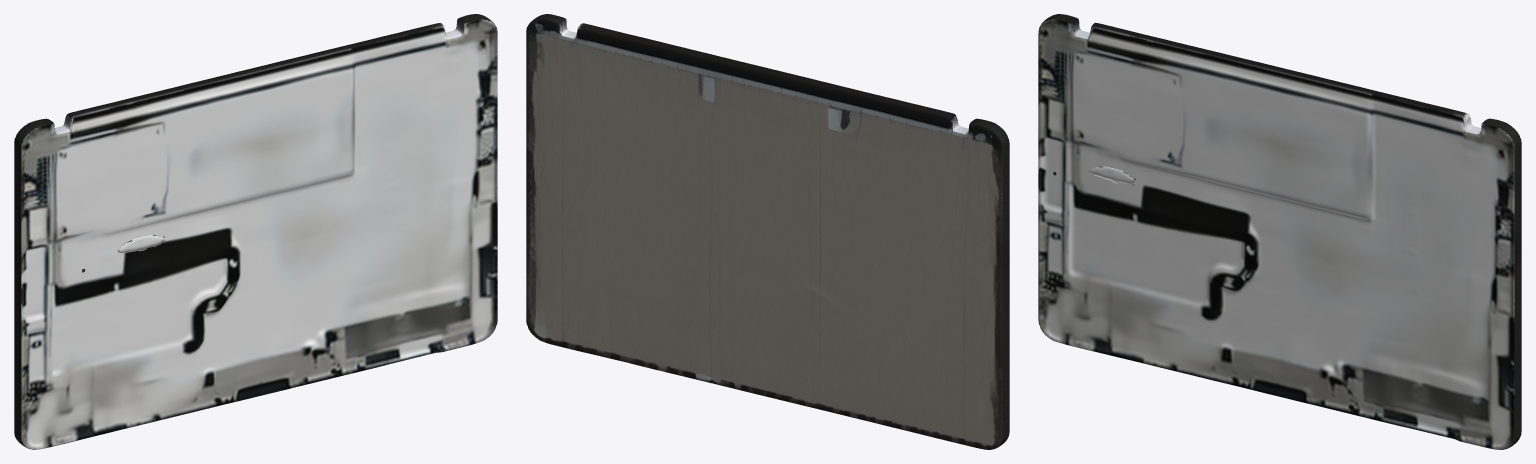
The model's file is display-assembly.glb.
The picture shows the model from 3 angles, left to right: view 1: azimuth 30°, elevation 25°; view 2: azimuth 150°, elevation 25°; view 3: azimuth 330°, elevation 25°; orthographic projection.
Visible parts, largest first — view 1: tmpv1jvrp4a.ply; view 2: tmpv1jvrp4a.ply; view 3: tmpv1jvrp4a.ply.
Boxes of the visible parts, bbox=[...] form: tmpv1jvrp4a.ply: bbox=[14, 14, 497, 449]; tmpv1jvrp4a.ply: bbox=[526, 14, 1009, 449]; tmpv1jvrp4a.ply: bbox=[1038, 14, 1521, 449].
Bounding box in the file's own units: 0.9883 × 0.6459 × 0.1124.
Materials: 1 (1 with a texture image).
